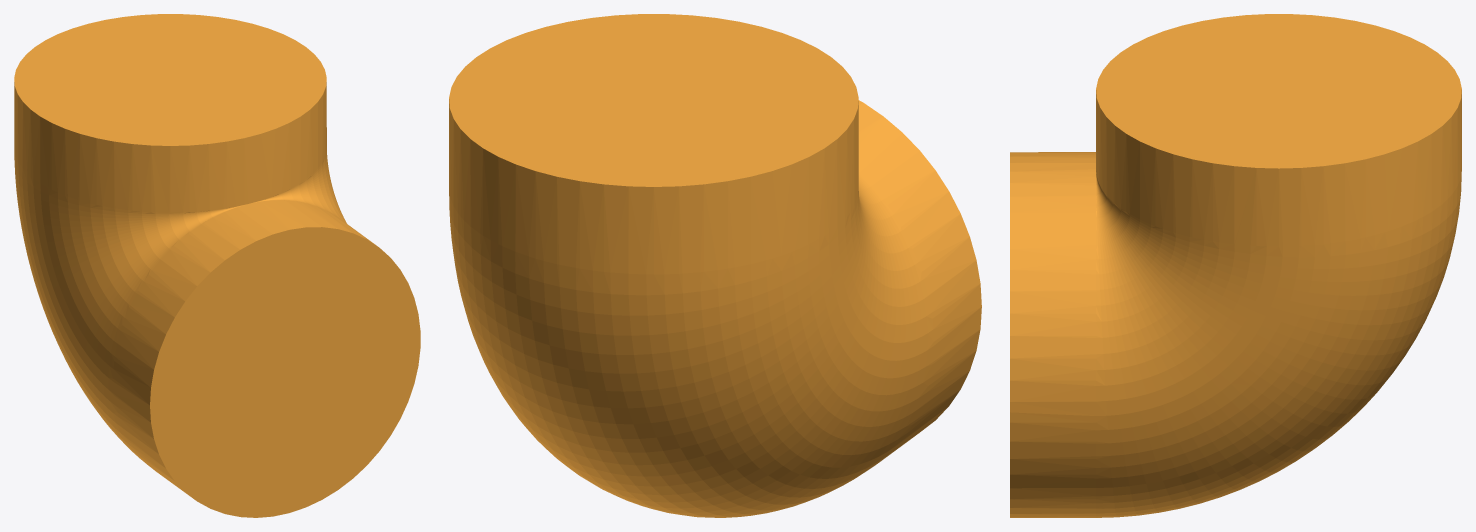
File: DobotNova5Link4.dae
3 views of the same model, side by side, from view 1: azimuth 30°, elevation 25°; view 2: azimuth 150°, elevation 25°; view 3: azimuth 270°, elevation 25° (orthographic). The views are drawn at different scales.
Parts seen in each view (by area): view 1: Nova5Link4; view 2: Nova5Link4; view 3: Nova5Link4.
Boxes of the visible parts, box(x1,y1,x2,y2) form: Nova5Link4: box(14, 14, 420, 517); Nova5Link4: box(449, 14, 981, 517); Nova5Link4: box(1010, 14, 1461, 517).
Size of the model in its own units: 0.0632 by 0.078 by 0.0781.
